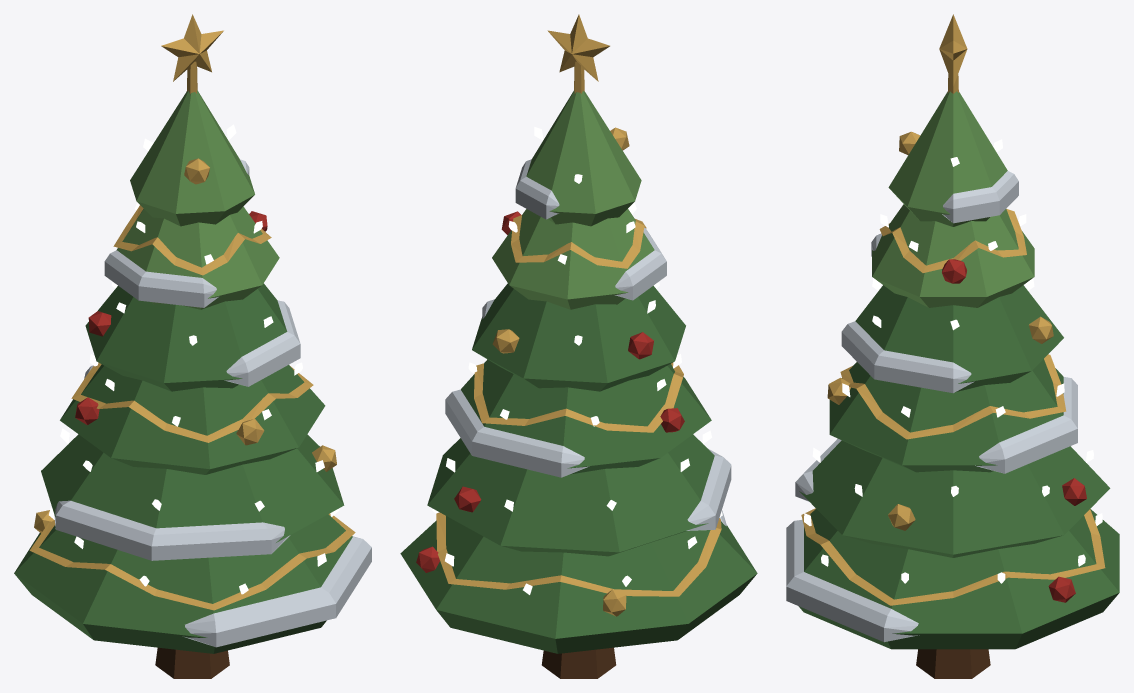
Rendered from front-yard-fir-tree-0a278d.glb.
3 views of the same model, side by side, from view 1: azimuth 30°, elevation 25°; view 2: azimuth 150°, elevation 25°; view 3: azimuth 270°, elevation 25° (orthographic).
Parts seen in each view (by area): view 1: crown-foliage, lights-glow, trunk; view 2: crown-foliage, lights-glow, trunk; view 3: crown-foliage, lights-glow, trunk.
Boxes of the visible parts, x1,y1,x2,y2 form: crown-foliage: (14,14,371,653); lights-glow: (49,124,339,594); trunk: (155,647,229,678); crown-foliage: (400,14,757,653); lights-glow: (432,127,722,594); trunk: (541,647,616,678); crown-foliage: (786,14,1119,649); lights-glow: (804,139,1102,583); trunk: (916,649,990,678).
Bounding box in the file's own units: 1.3 × 2.79 × 1.3.
